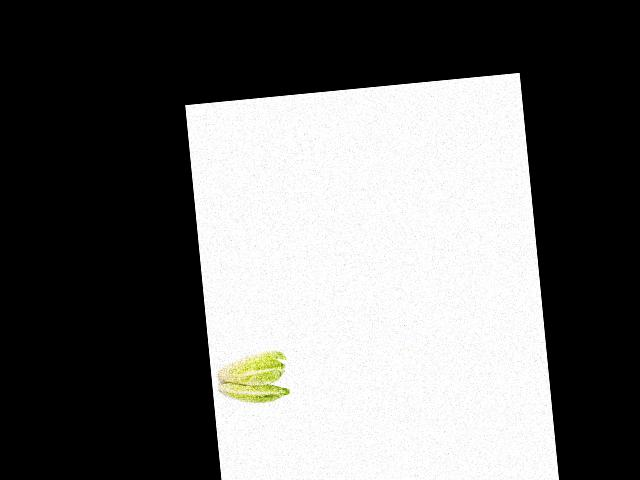lettuce: (214, 375, 292, 414)
